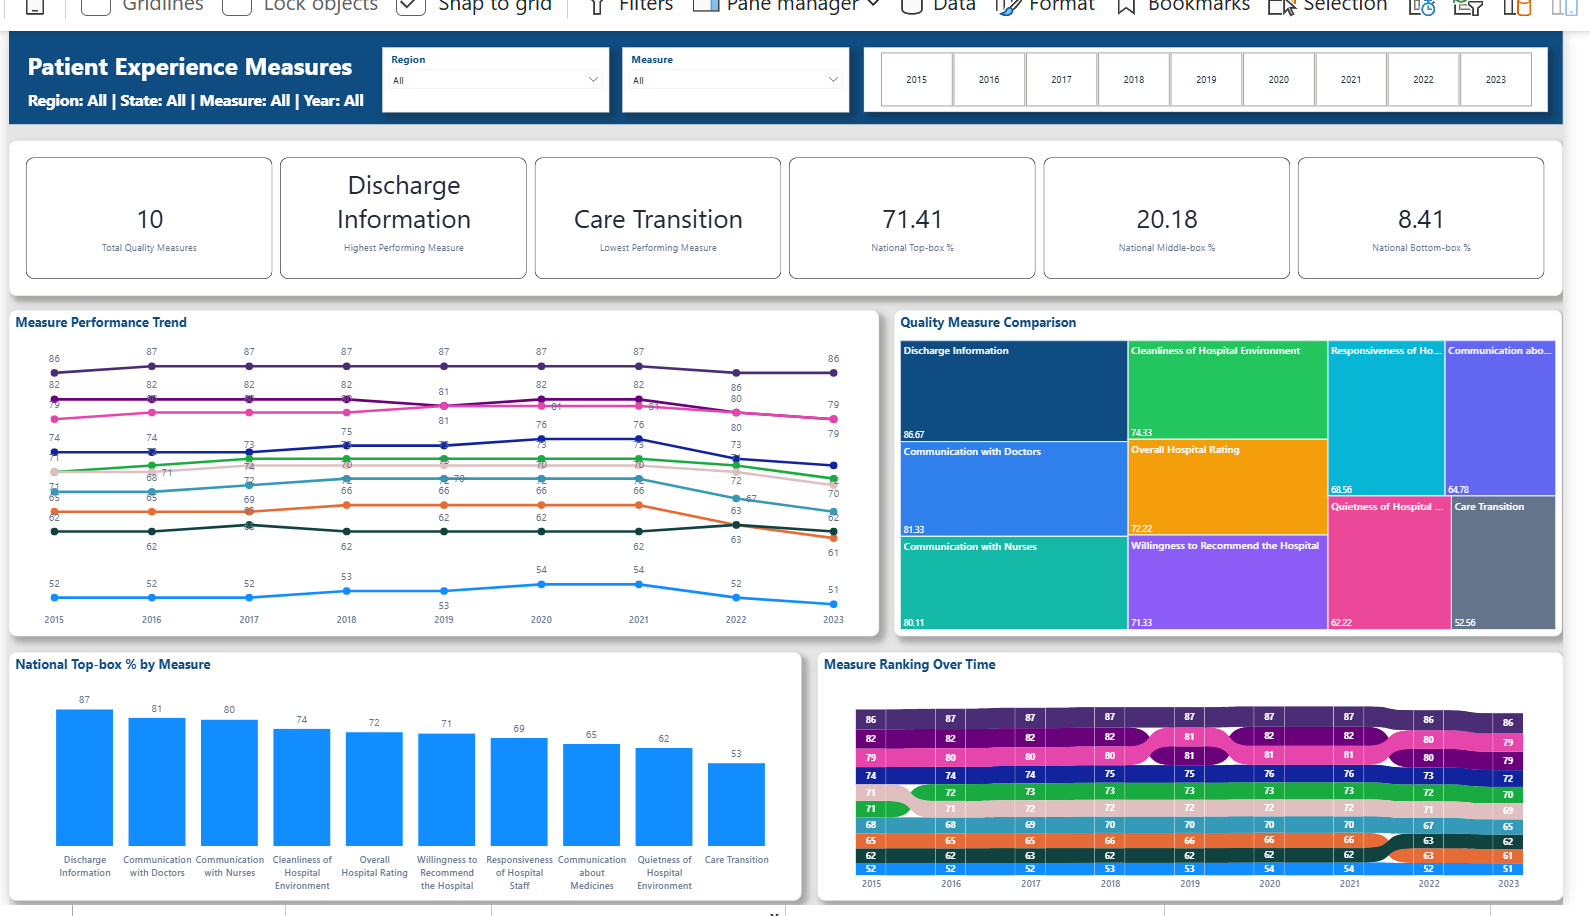

What the dashboard file says about the page in this screenshot:
{"tool":"powerbi","page":{"name":"Patient Experience Measures","canvas":[2400,1350],"ordinal":2},"visuals":[{"type":"shape","box":[0,0,2400,144],"z":0},{"type":"textbox","box":[24,24,552,96],"z":1000},{"type":"slicer","fields":{"Values":["states.Region"]},"box":[576,25.7,350,100],"z":2000},{"type":"slicer","fields":{"Values":["measure.Measure"]},"box":[948,25.7,350,100],"z":3000},{"type":"slicer","title":"Release Period","fields":{"Values":["reports.Release Year"]},"box":[1320,26.2,1056,99],"z":4000},{"type":"cardVisual","fields":{"Data":["Key Measures.Number of Quality Measures","Key Measures.Highest Performing Measure","Key Measures.Lowest Performing Measure","Key Measures.National Top-box %","Key Measures.National Middle-box %","Key Measures.National Bottom-box %"]},"box":[0,168,2400,240],"z":5000},{"type":"lineChart","title":"Measure Performance Trend","fields":{"Category":["reports.Release Year"],"Y":["Key Measures.National Top-box %"],"Series":["measure.Measure"]},"box":[0,432,1344,504],"z":6000},{"type":"treemap","title":"Quality Measure Comparison","fields":{"Group":["measure.Measure"],"Values":["Key Measures.National Top-box %"]},"box":[1368,432,1032,504],"z":7000},{"type":"clusteredColumnChart","fields":{"Category":["measure.Measure"],"Y":["Key Measures.National Top-box %"]},"box":[0,960,1224,384],"z":8000},{"type":"ribbonChart","title":"Measure Ranking Over Time","fields":{"Category":["reports.Release Year"],"Series":["measure.Measure"],"Y":["Key Measures.National Top-box %"]},"box":[1248,960,1152,384],"z":9000},{"type":"card","fields":{"Values":["Key Measures.Dashboard Filter Summary"]},"box":[0,72,576,72],"z":10000}]}

Visuals, with their boxes on the page's 2400x1350 design canvas (x1, y1, x2, y2). These are canvas units, not pixel positions in the 1590x916 screenshot, which may show the page scaled, cropped or inside an application window:
shape: {"x1": 0, "y1": 0, "x2": 2400, "y2": 144}
textbox: {"x1": 24, "y1": 24, "x2": 576, "y2": 120}
slicer - states.Region: {"x1": 576, "y1": 26, "x2": 926, "y2": 126}
slicer - measure.Measure: {"x1": 948, "y1": 26, "x2": 1298, "y2": 126}
"Release Period" slicer: {"x1": 1320, "y1": 26, "x2": 2376, "y2": 125}
cardVisual - Key Measures.Number of Quality Measures x Key Measures.Highest Performing Measure: {"x1": 0, "y1": 168, "x2": 2400, "y2": 408}
"Measure Performance Trend" lineChart: {"x1": 0, "y1": 432, "x2": 1344, "y2": 936}
"Quality Measure Comparison" treemap: {"x1": 1368, "y1": 432, "x2": 2400, "y2": 936}
clusteredColumnChart - measure.Measure x Key Measures.National Top-box %: {"x1": 0, "y1": 960, "x2": 1224, "y2": 1344}
"Measure Ranking Over Time" ribbonChart: {"x1": 1248, "y1": 960, "x2": 2400, "y2": 1344}
card - Key Measures.Dashboard Filter Summary: {"x1": 0, "y1": 72, "x2": 576, "y2": 144}
